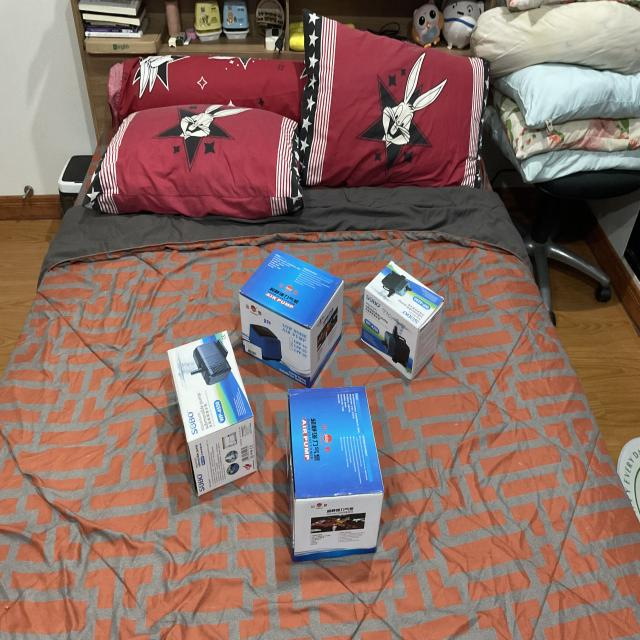SOBO_WP_4200: (164, 325, 261, 512), (356, 248, 452, 382)
YAMANO_LPP_20: (276, 381, 407, 568), (232, 235, 354, 390)
